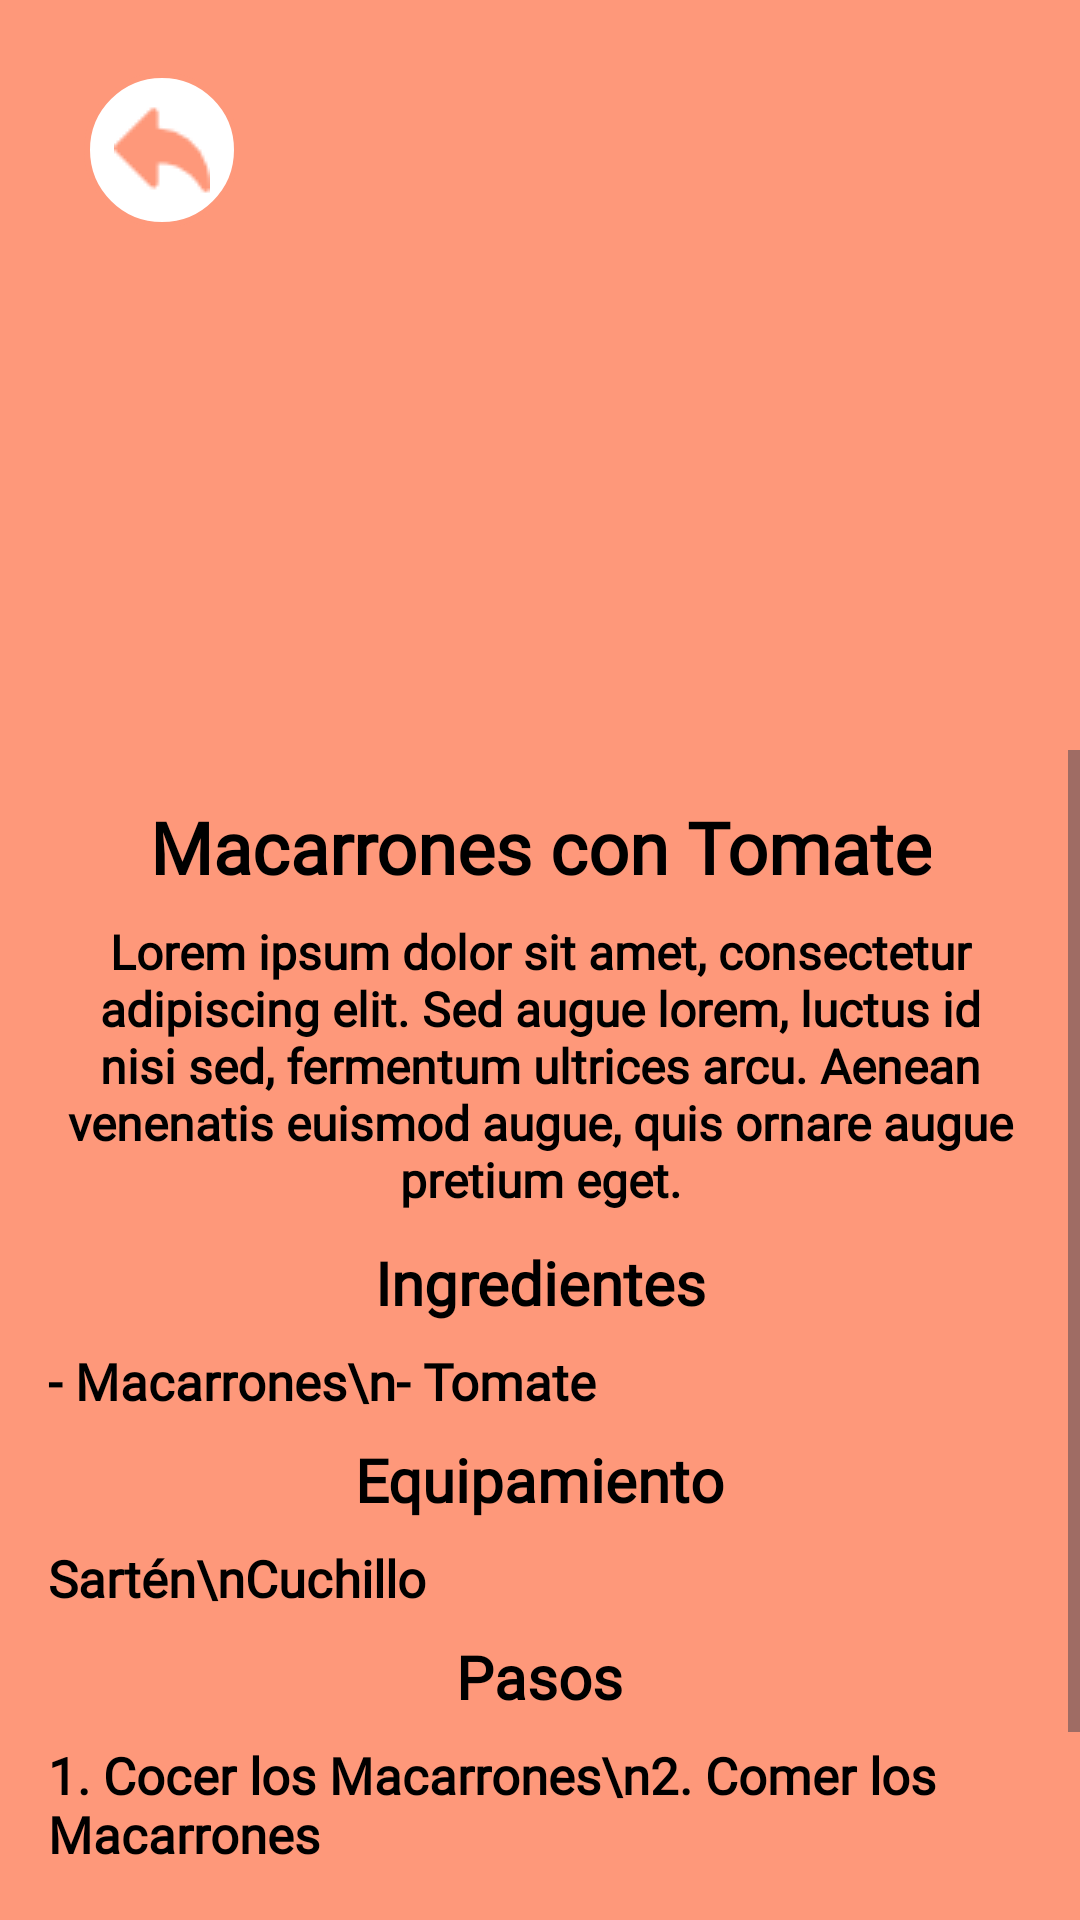

Point at icon controls on the screen. Image size 1080px x 1920px, points as (x,y).
atras: (162,150)
